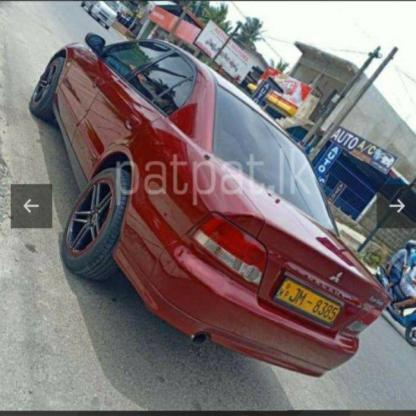car back: (27, 28, 392, 389)
number plate: (276, 282, 342, 322)
